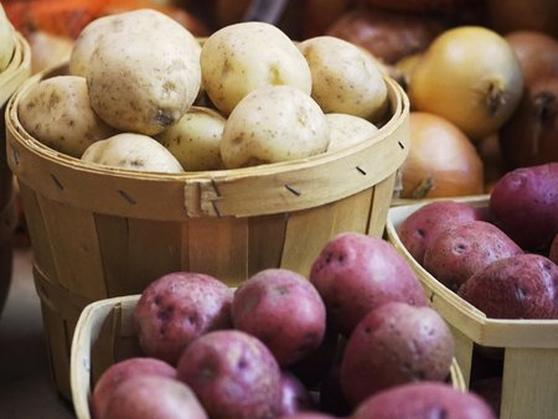potato: (99, 11, 203, 124), (209, 23, 311, 117), (224, 90, 326, 167)
